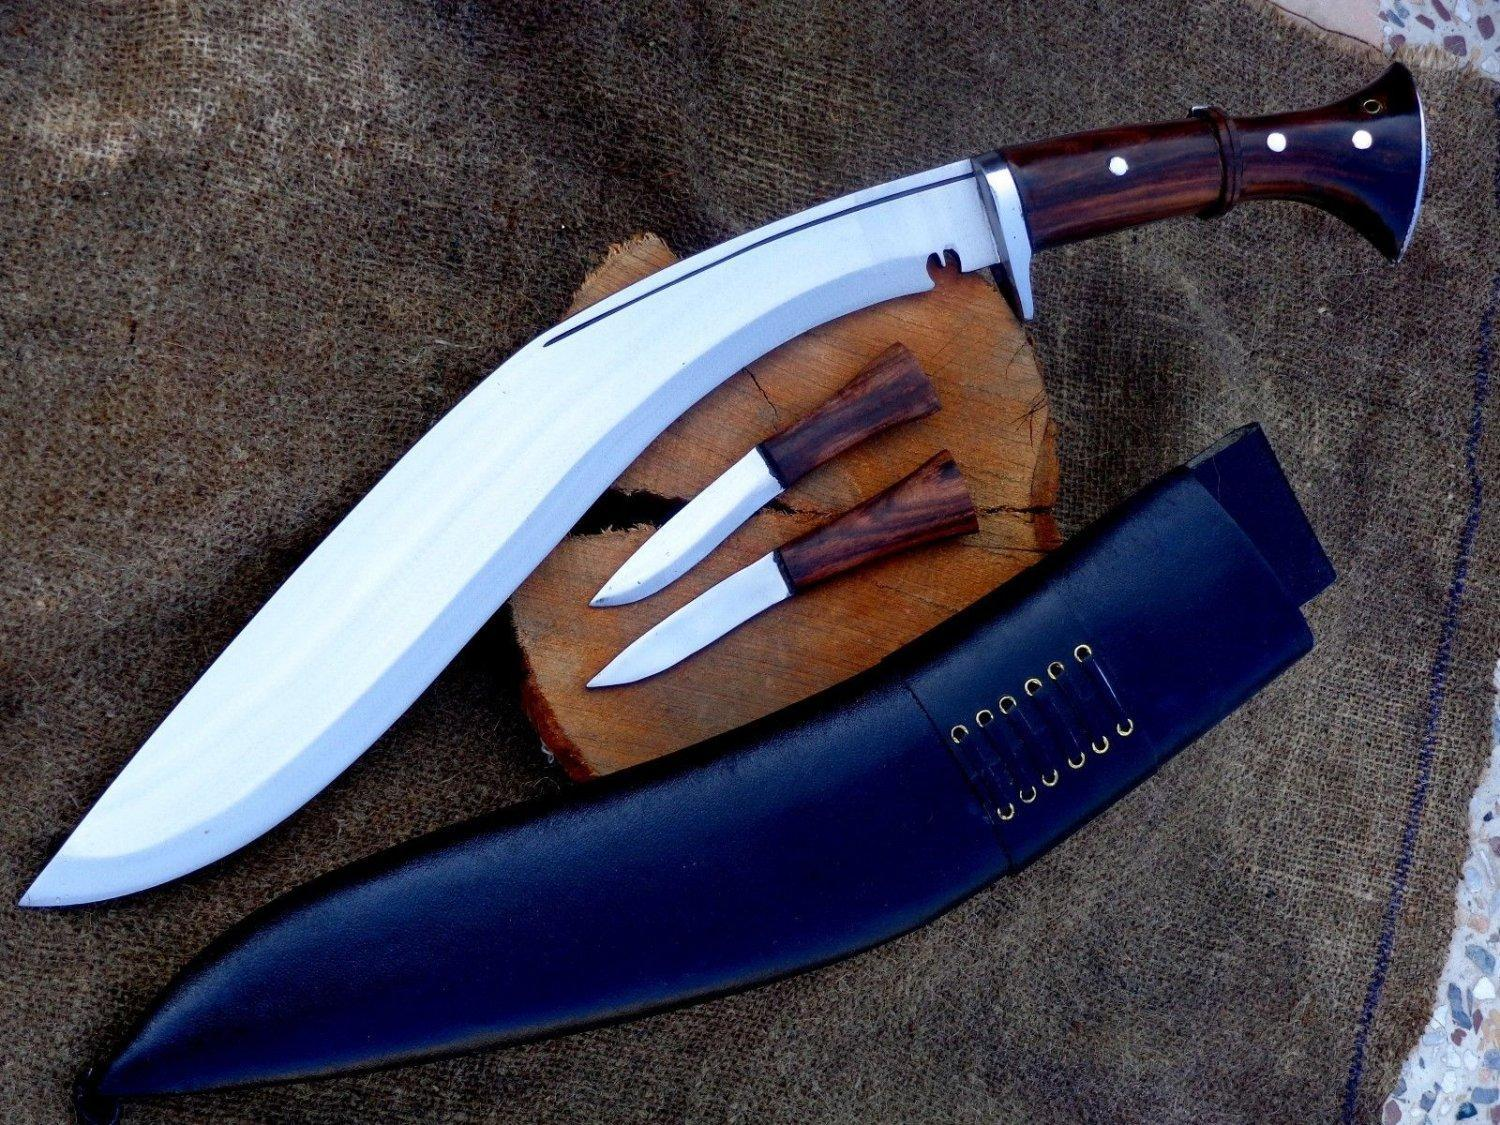facao: (13, 50, 1428, 905)
